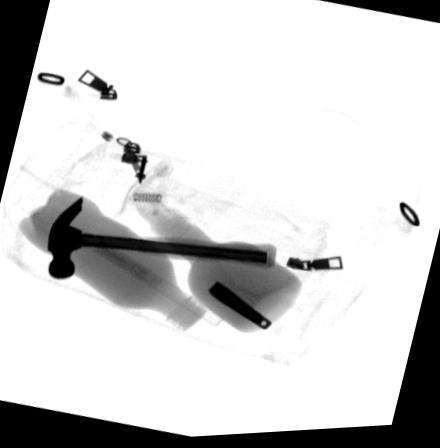Hammer: (45, 196, 277, 279)
